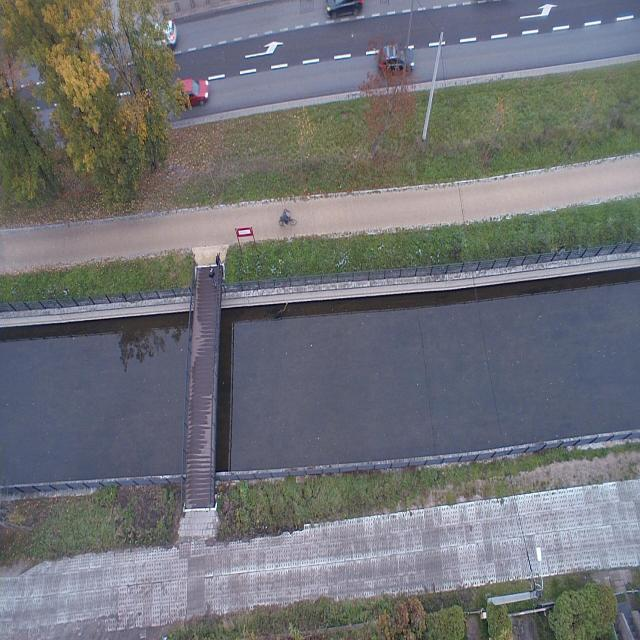p3rson: (208, 266, 216, 286), (283, 208, 290, 226), (215, 253, 220, 274)
